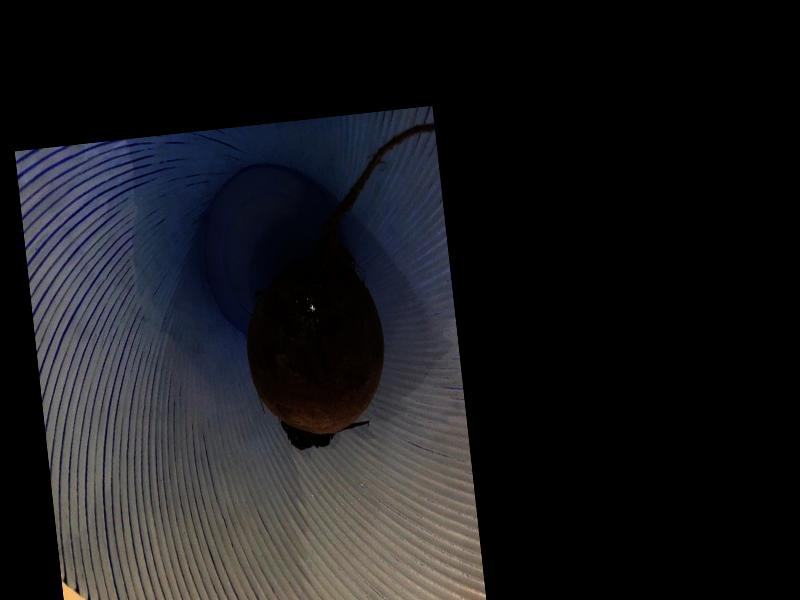Beet: (225, 124, 468, 456)
